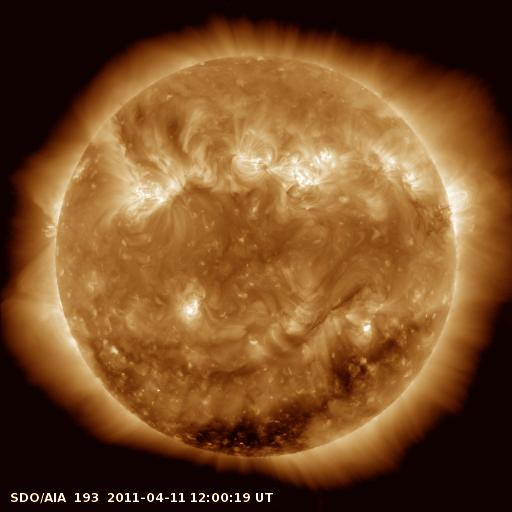coronal_hole: (181, 335, 397, 464)
